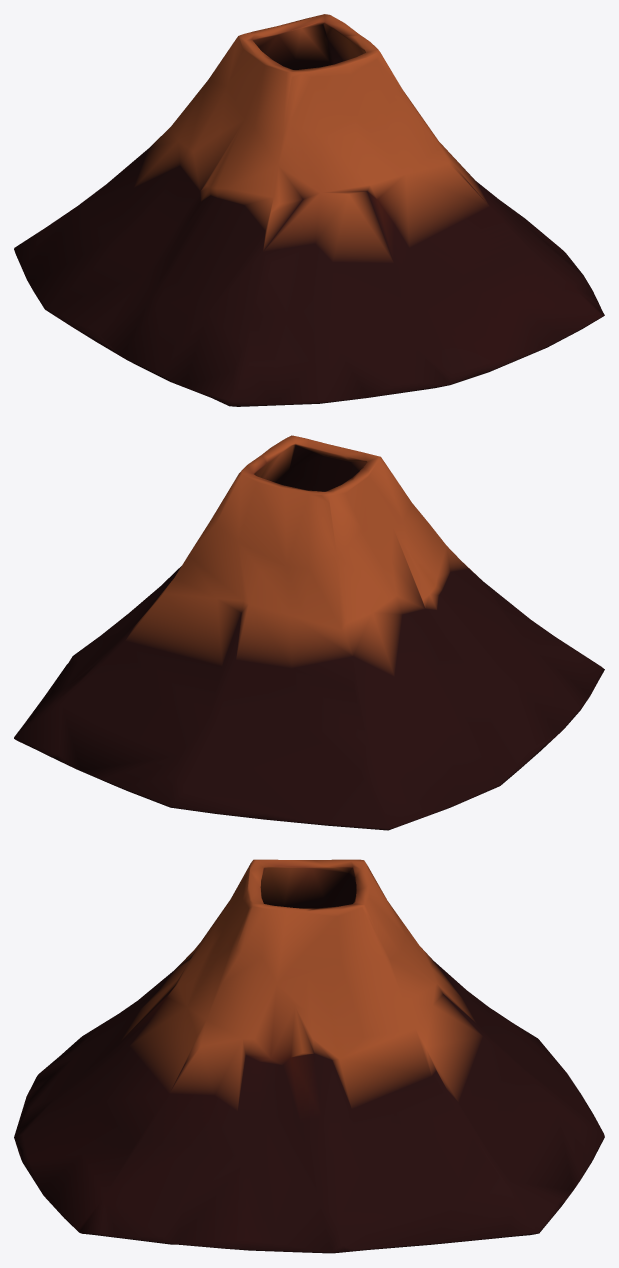
Rendered from gen3d-volcano-lod1.glb.
3 views of the same model, one above another, from view 1: azimuth 30°, elevation 25°; view 2: azimuth 150°, elevation 25°; view 3: azimuth 270°, elevation 25° (orthographic). The views are drawn at different scales.
Visible parts, largest first — view 1: part_0; view 2: part_0; view 3: part_0.
Part boxes in pixels (<box>): part_0: <box>14,14,604,406</box>; part_0: <box>14,435,604,830</box>; part_0: <box>14,859,604,1253</box>.
Size of the model in its own units: 1.97 by 0.9988 by 2.1.
